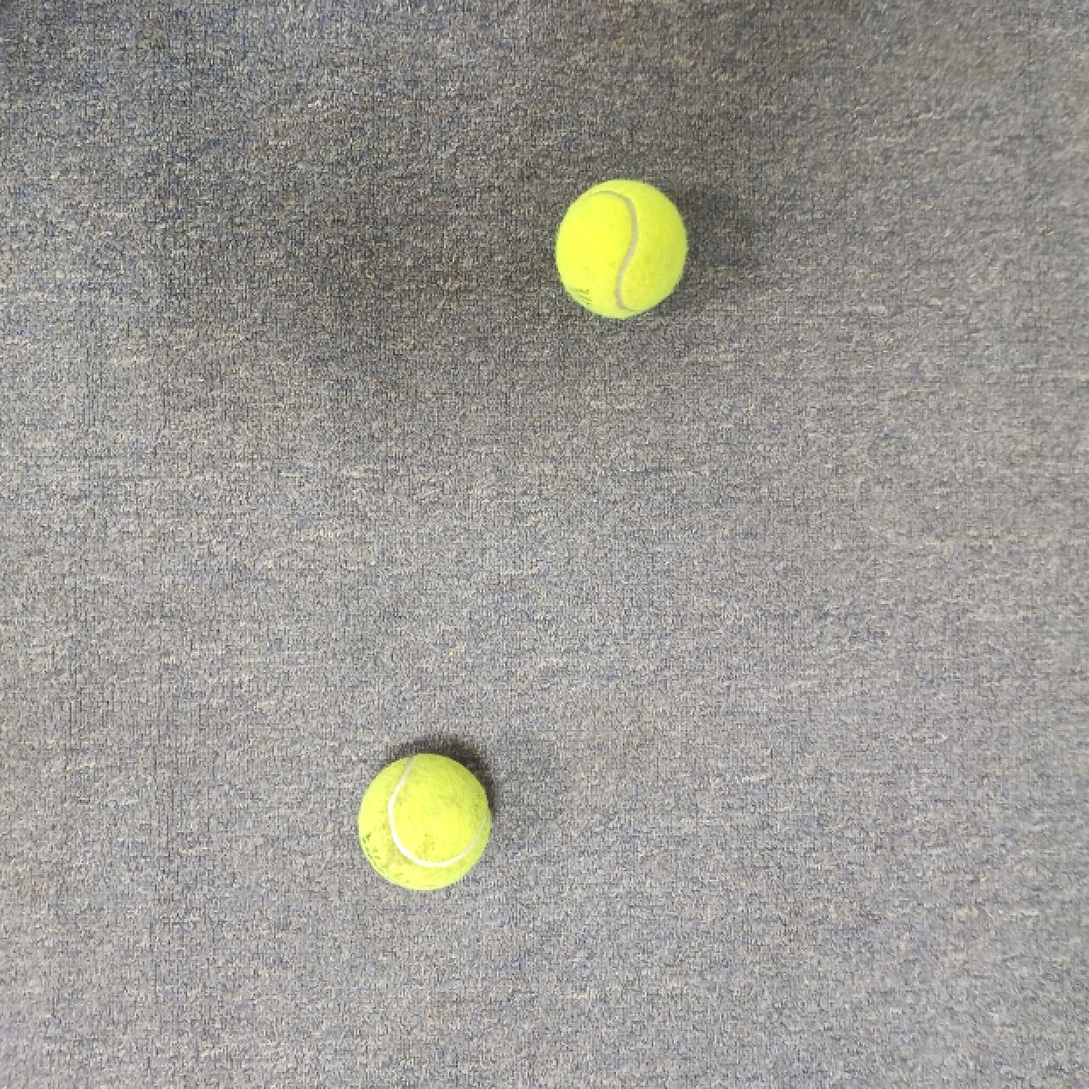tennis-ball: (358, 749, 496, 894), (556, 179, 689, 319)
